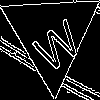W: (26, 10, 85, 75)
